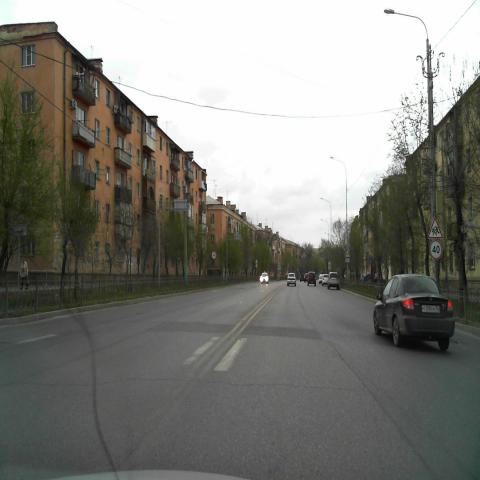1_23: (428, 217, 444, 239)
3_24: (429, 240, 442, 260), (210, 249, 216, 259)
